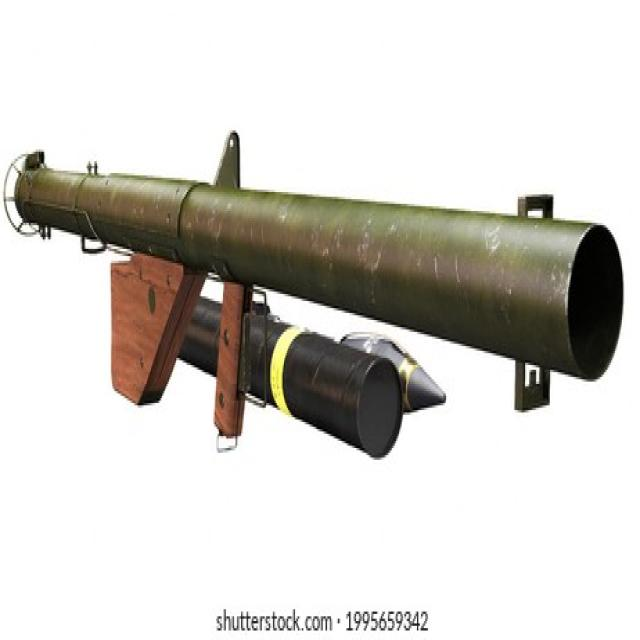Weapon: (4, 133, 621, 379)
